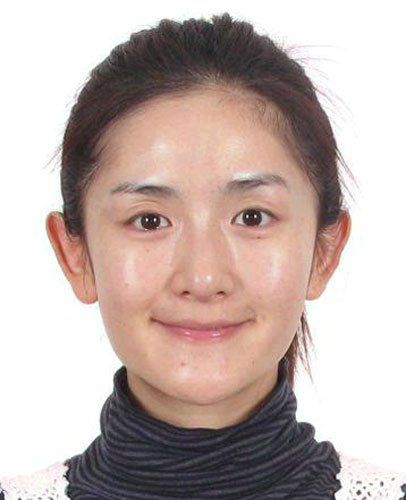unmask: (90, 131, 320, 379)
